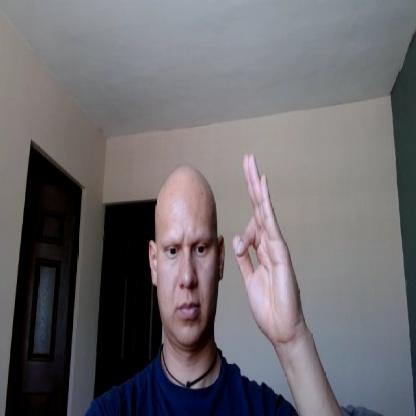F: (231, 154, 297, 339)
